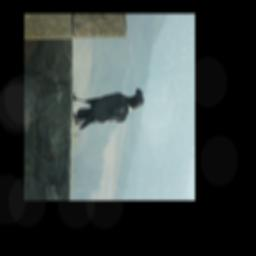Crow: (72, 87, 146, 130)
